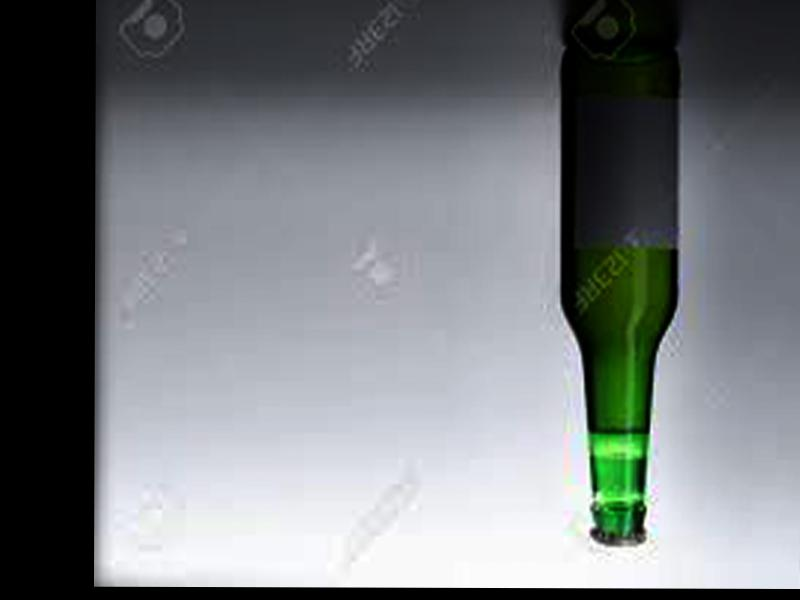Beer: (560, 42, 679, 546)
